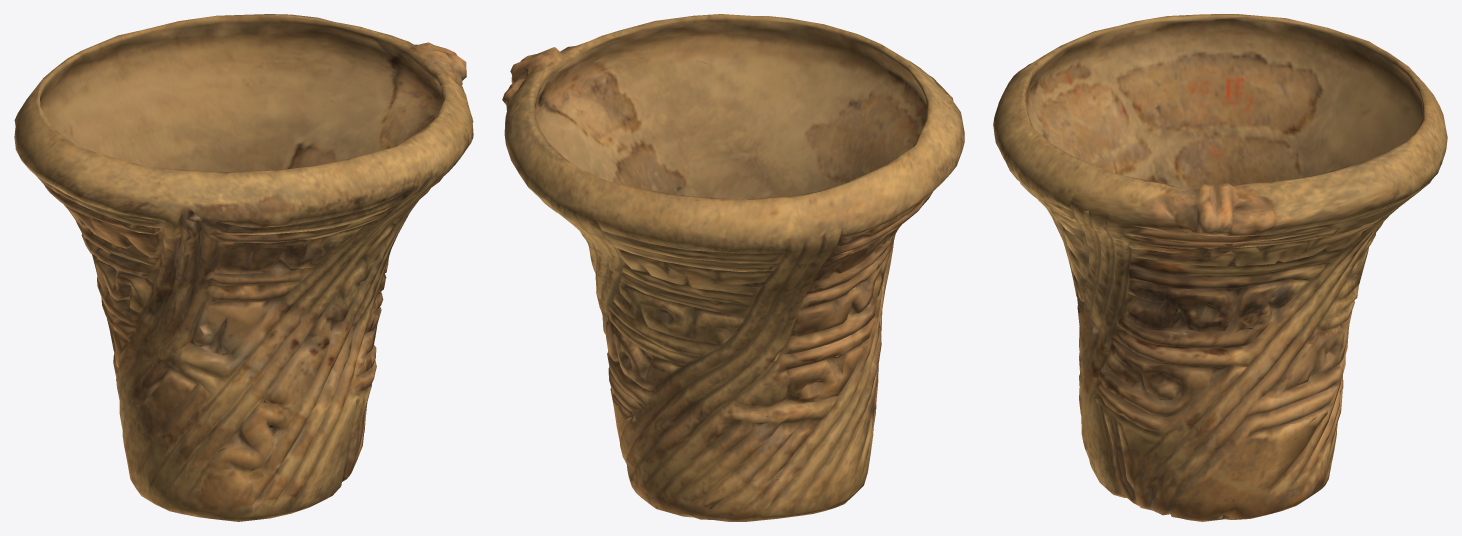
The picture shows the model from 3 angles, left to right: view 1: azimuth 30°, elevation 25°; view 2: azimuth 150°, elevation 25°; view 3: azimuth 270°, elevation 25°; orthographic projection. The views are drawn at different scales.
Parts seen in each view (by area): view 1: UD0318_low; view 2: UD0318_low; view 3: UD0318_low.
Boxes of the visible parts, x1,y1,x2,y2 form: UD0318_low: [14, 14, 473, 521]; UD0318_low: [502, 14, 964, 521]; UD0318_low: [993, 14, 1447, 521].
Size of the model in its own units: 193 by 168 by 179.
1 material, 1 textured.
